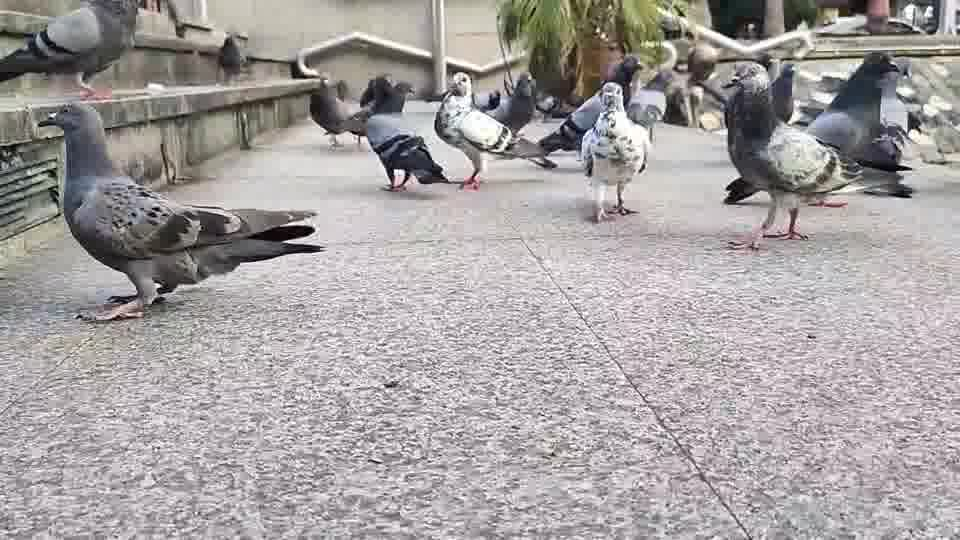Pigeon: (36, 100, 326, 322), (719, 59, 864, 243), (804, 50, 916, 202), (433, 73, 557, 191), (0, 0, 140, 100), (537, 54, 644, 158), (357, 74, 449, 191), (580, 80, 651, 223), (308, 77, 369, 152)
